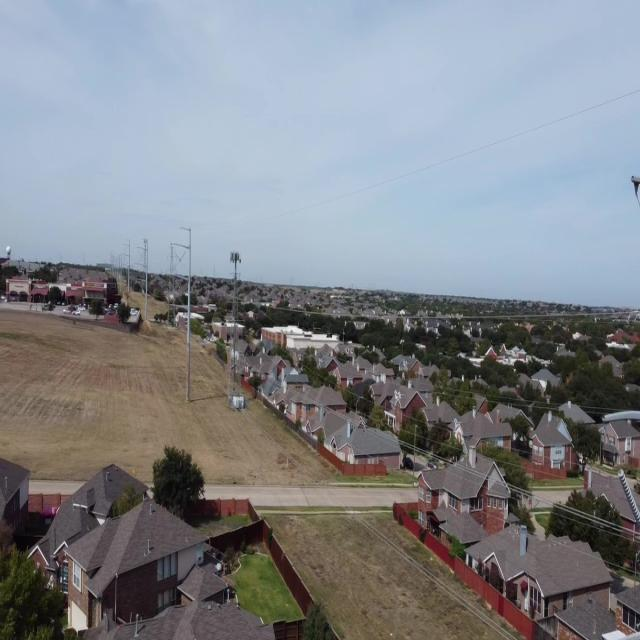杆塔: (227, 246, 244, 410), (165, 242, 178, 330), (141, 239, 149, 296)
